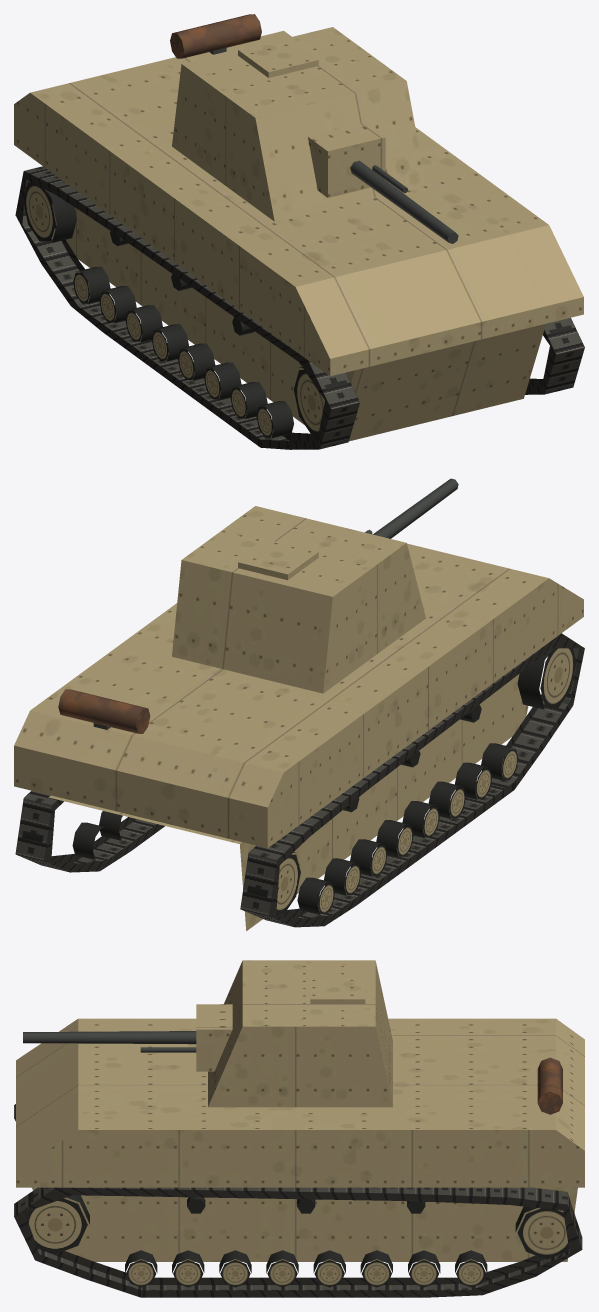
Rendered from armor-2.glb.
3 views of the same model, one above another, from view 1: azimuth 30°, elevation 25°; view 2: azimuth 150°, elevation 25°; view 3: azimuth 270°, elevation 25° (orthographic). The views are drawn at different scales.
Visible parts, largest first — view 1: hull, turret, tracks_right, gun, tracks_left, roue_folle_right, hatch, barbotin_right, galet_right_8, galet_right_6, galet_right_4, galet_right_5 (+4 smaller); view 2: hull, turret, tracks_right, tracks_left, barbotin_right, hatch, gun, roue_folle_right, galet_right_1, galet_right_6, galet_right_3, galet_right_8 (+5 smaller); view 3: hull, turret, tracks_left, gun, barbotin_left, roue_folle_left, hatch, galet_left_6, galet_left_2, galet_left_5, galet_left_4, galet_left_3 (+3 smaller).
Boxes of the visible parts, left/top/right/bottom form: hull: left=14, top=14, right=583, bottom=441; turret: left=172, top=27, right=425, bottom=221; tracks_right: left=15, top=166, right=359, bottom=449; gun: left=308, top=122, right=458, bottom=243; tracks_left: left=525, top=317, right=584, bottom=394; roue_folle_right: left=24, top=182, right=76, bottom=242; hatch: left=238, top=37, right=318, bottom=77; barbotin_right: left=294, top=367, right=347, bottom=435; galet_right_8: left=256, top=401, right=293, bottom=438; galet_right_6: left=204, top=362, right=241, bottom=399; galet_right_4: left=151, top=324, right=188, bottom=361; galet_right_5: left=178, top=343, right=215, bottom=380; hull: left=14, top=543, right=583, bottom=930; turret: left=172, top=506, right=425, bottom=693; tracks_right: left=240, top=633, right=584, bottom=927; tracks_left: left=15, top=790, right=164, bottom=872; barbotin_right: left=517, top=648, right=576, bottom=709; hatch: left=238, top=540, right=318, bottom=580; gun: left=365, top=478, right=458, bottom=538; roue_folle_right: left=247, top=852, right=300, bottom=913; galet_right_1: left=297, top=877, right=334, bottom=914; galet_right_6: left=428, top=781, right=465, bottom=818; galet_right_3: left=350, top=839, right=387, bottom=876; galet_right_8: left=481, top=743, right=518, bottom=780; hull: left=16, top=1018, right=584, bottom=1261; turret: left=208, top=960, right=392, bottom=1107; tracks_left: left=14, top=1187, right=582, bottom=1297; gun: left=23, top=1004, right=232, bottom=1071; barbotin_left: left=25, top=1192, right=89, bottom=1254; roue_folle_left: left=515, top=1206, right=577, bottom=1259; hatch: left=310, top=977, right=365, bottom=1004; galet_left_6: left=219, top=1250, right=251, bottom=1287; galet_left_2: left=408, top=1250, right=440, bottom=1287; galet_left_5: left=266, top=1250, right=298, bottom=1287; galet_left_4: left=313, top=1250, right=345, bottom=1287; galet_left_3: left=360, top=1250, right=392, bottom=1287.
Bounding box in the file's own units: 2.28 × 2.42 × 4.94.
5 materials, 5 textured.
